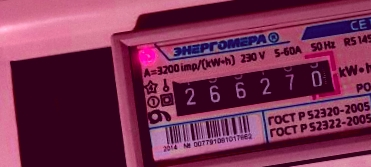0: (307, 67, 324, 88)
2: (182, 84, 198, 107), (258, 74, 274, 96)
6: (206, 82, 222, 104), (232, 79, 248, 99)
7: (284, 71, 296, 91)
screen: (158, 45, 348, 127)
